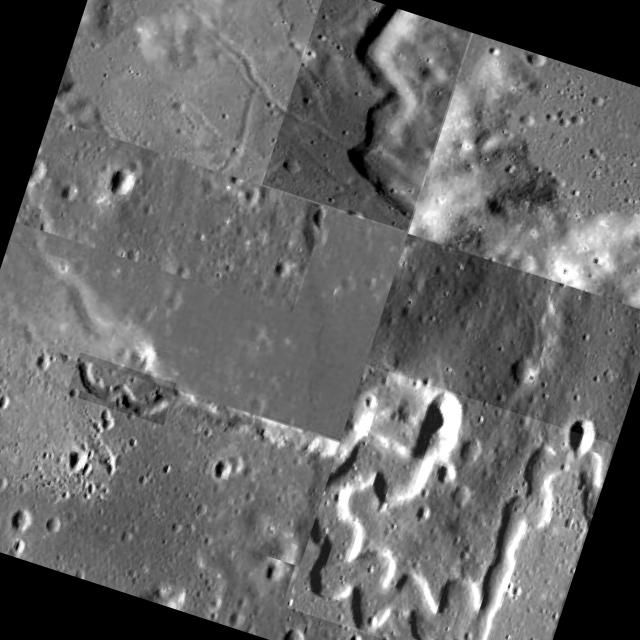rille: (286, 364, 614, 640), (418, 36, 640, 312), (262, 0, 471, 231), (66, 352, 176, 426)
